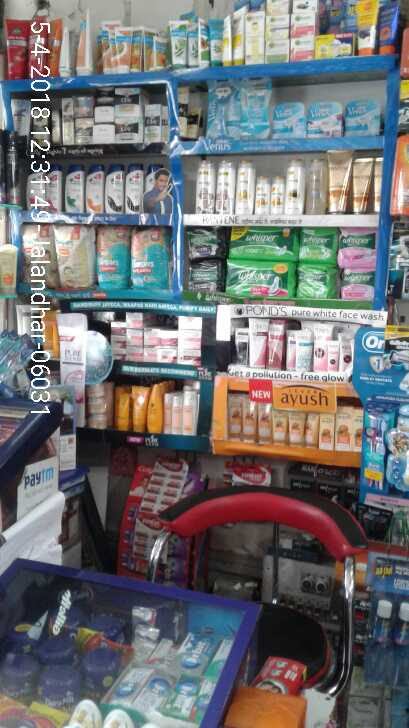venus: (208, 80, 240, 143), (240, 80, 271, 143), (344, 100, 381, 134), (309, 100, 344, 134), (272, 101, 303, 139)
